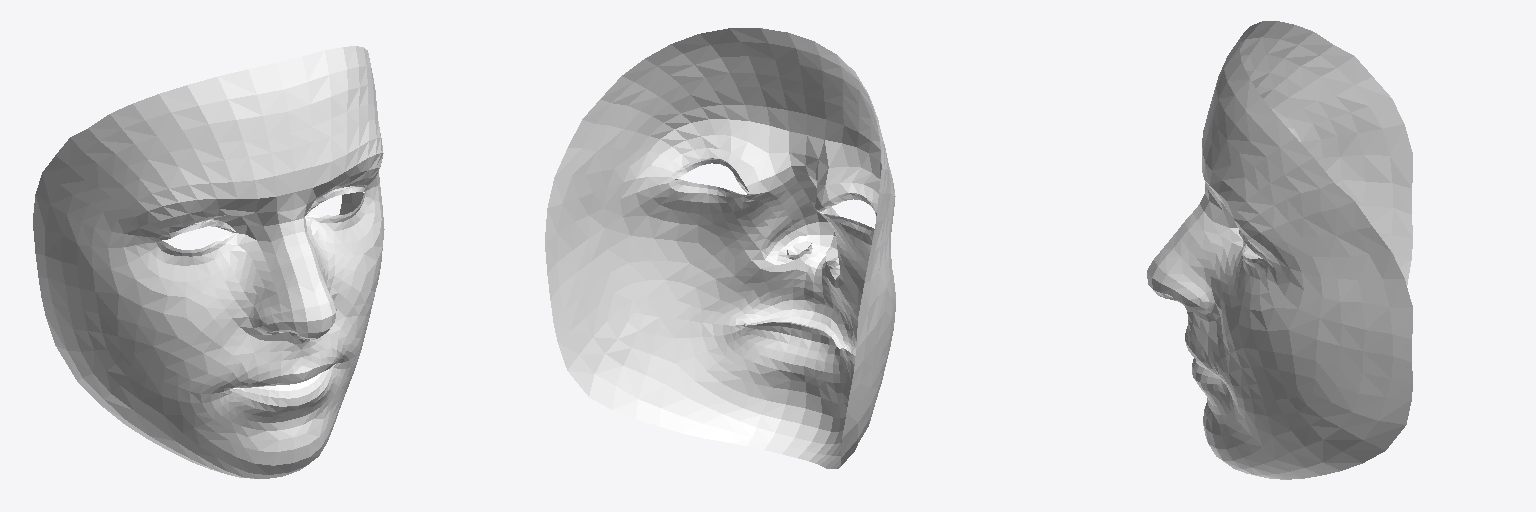
Rendered from eyeLookOut_R.obj.
The picture shows the model from 3 angles: view 1: azimuth 30°, elevation 25°; view 2: azimuth 150°, elevation 25°; view 3: azimuth 270°, elevation 25°; orthographic projection.
Visible parts, largest first — view 1: default; view 2: default; view 3: default.
Boxes of the visible parts, <box> form: default: <box>33,46,384,478</box>; default: <box>545,28,895,468</box>; default: <box>1147,21,1412,479</box>.
Size of the model in its own units: 0.1447 by 0.182 by 0.1055.